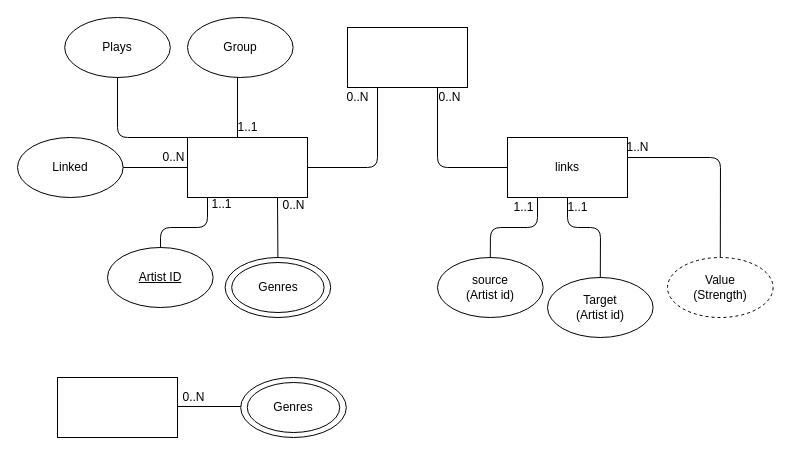
Image size: 791x455. Some labels were removed from this diagram. Each missing label, with the centre of its shape:
nodes (Artists): the point at 247,167
window.artistData: the point at 407,57
window.genres: the point at 117,407
